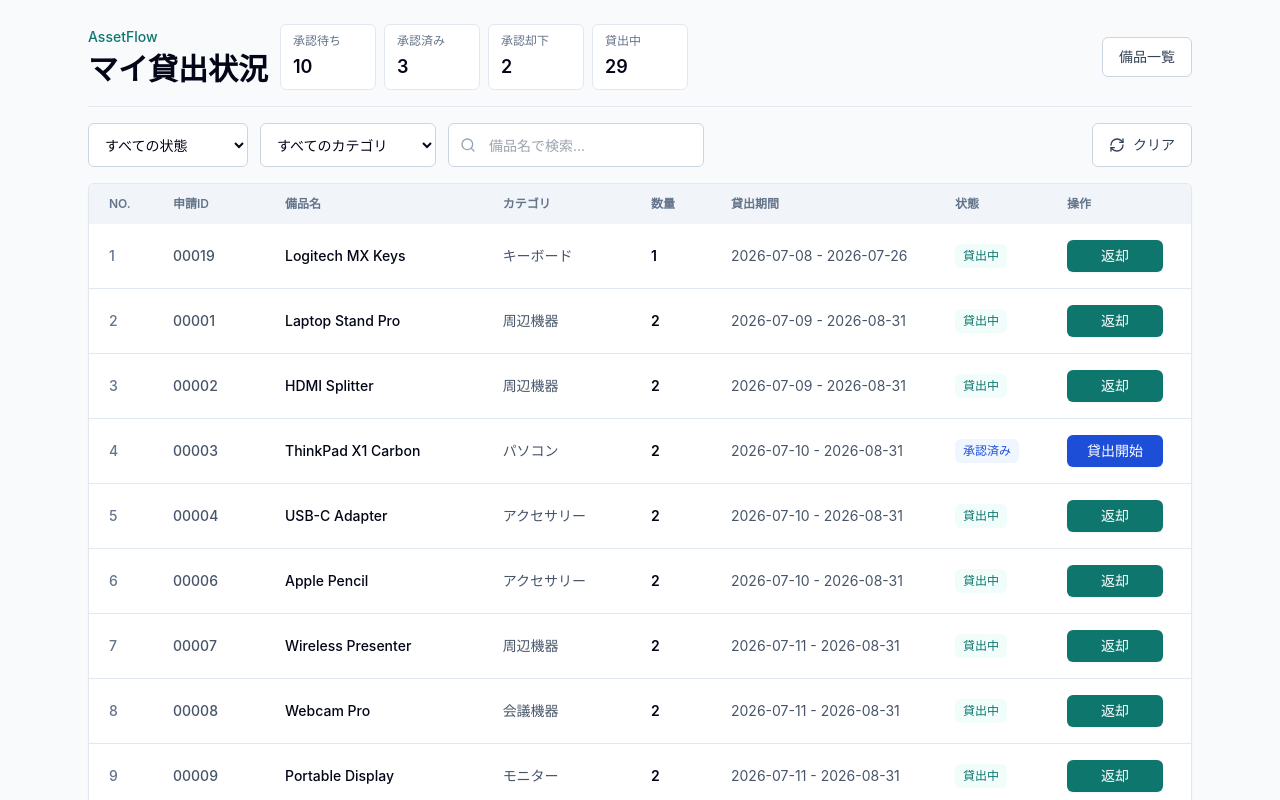
Test: MyLoanRequestPage › 032: パソコンで絞り込むと4件を表示する
The image size is (1280, 800).
Select "パソコン" in the dropdown named "カテゴリで絞り込み". click: (348, 145)
box: top-left (260, 123), bottom-right (436, 167)
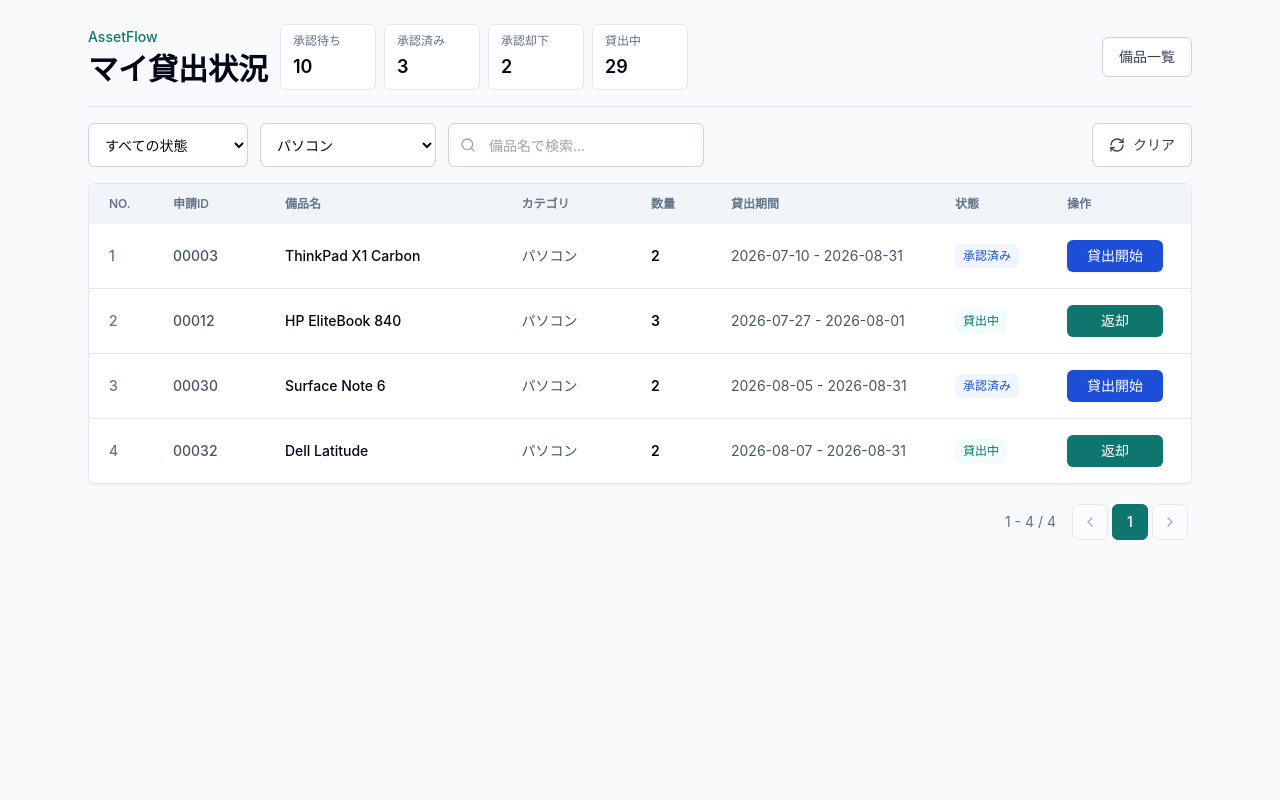
Check: the button named "前のページ" is disabled, box top-left (1072, 504), bottom-right (1108, 540)
Check: the text "1 - 4 / 4" is shown, box top-left (1005, 512), bottom-right (1056, 532)
Check: the button named "次のページ" is disabled, box top-left (1152, 504), bottom-right (1188, 540)
